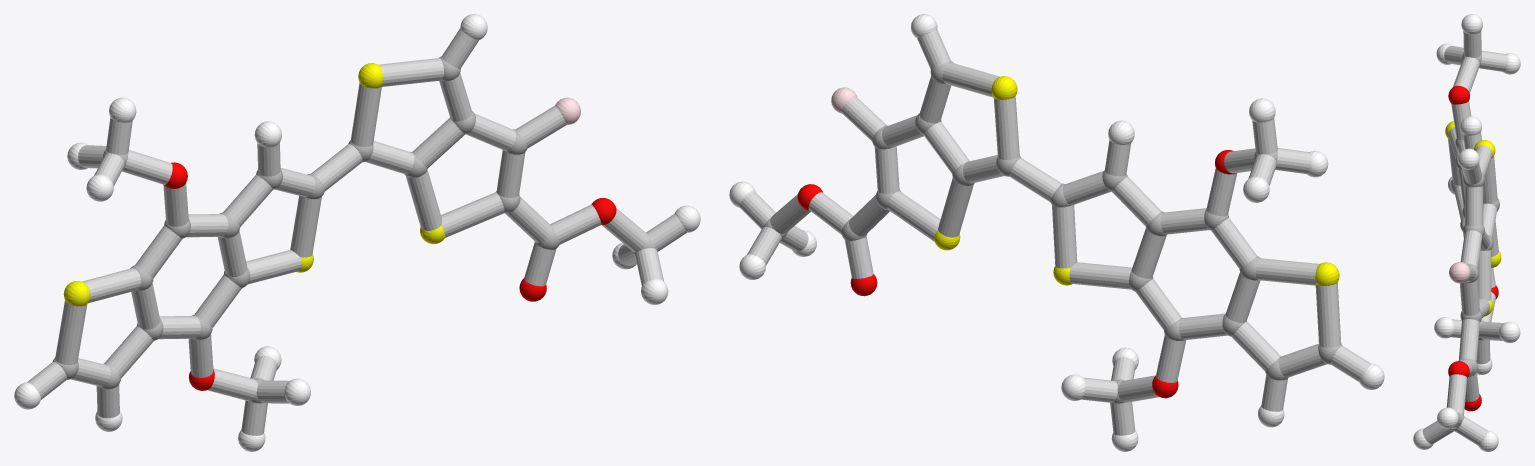
Rendered from Dimethoxy_Benzodithiophene_Phi_15_Theta_350_Methylcarbonyl_3_Fluoro_Thienothiophene.glb.
3 renders of one model, left to right at view 1: azimuth 30°, elevation 25°; view 2: azimuth 150°, elevation 25°; view 3: azimuth 270°, elevation 25°, orthographic. The views are drawn at different scales.
Visible parts, largest first — view 1: grp15205, grp8689, grp1, grp13395, grp7241; view 2: grp15205, grp8689, grp1, grp7241, grp13395; view 3: grp15205, grp8689, grp1, grp13395, grp7241, grp14843.
Part boxes in pixels (<box>): grp15205: <box>27,28,686,435</box>; grp8689: <box>14,14,700,451</box>; grp1: <box>52,56,655,403</box>; grp13395: <box>164,162,616,390</box>; grp7241: <box>63,63,445,306</box>; grp15205: <box>739,30,1370,435</box>; grp8689: <box>729,14,1384,451</box>; grp1: <box>763,61,1342,403</box>; grp7241: <box>934,76,1339,285</box>; grp13395: <box>797,150,1236,398</box>; grp15205: <box>1422,31,1507,445</box>; grp8689: <box>1413,14,1520,451</box>; grp1: <box>1449,53,1499,431</box>; grp13395: <box>1448,85,1498,411</box>; grp7241: <box>1445,121,1501,316</box>; grp14843: <box>1449,262,1470,283</box>.
Bounding box in the file's own units: 17.07 × 9.39 × 2.98.
